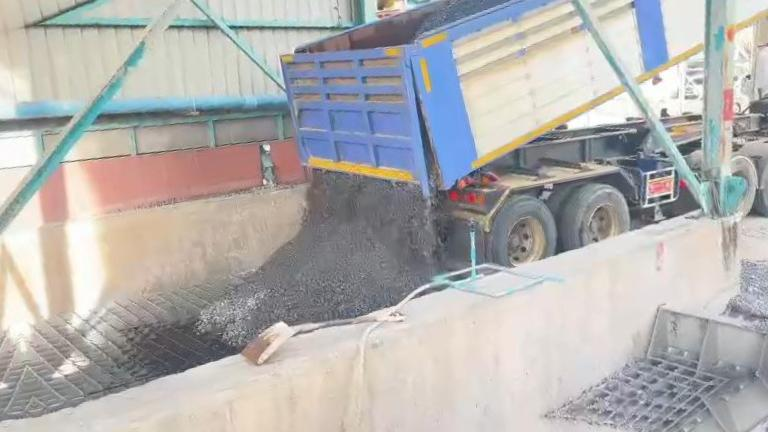gravel: (198, 170, 438, 346), (413, 0, 555, 41), (727, 261, 768, 352)
